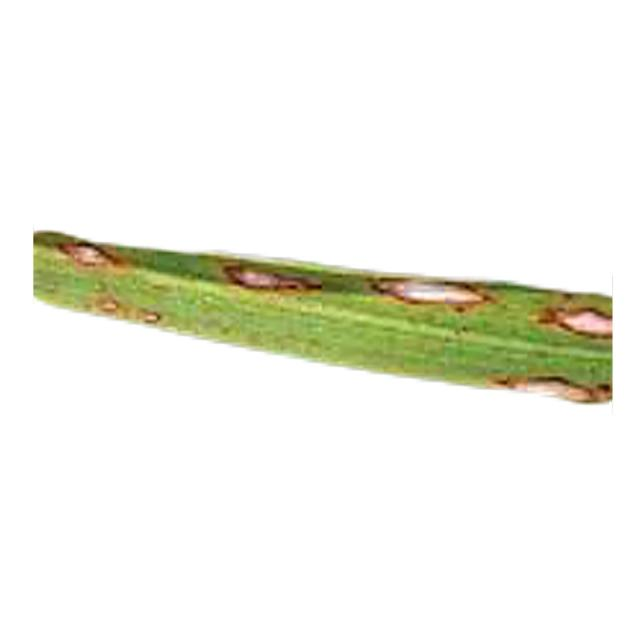Leaf blast: (22, 197, 622, 462)
